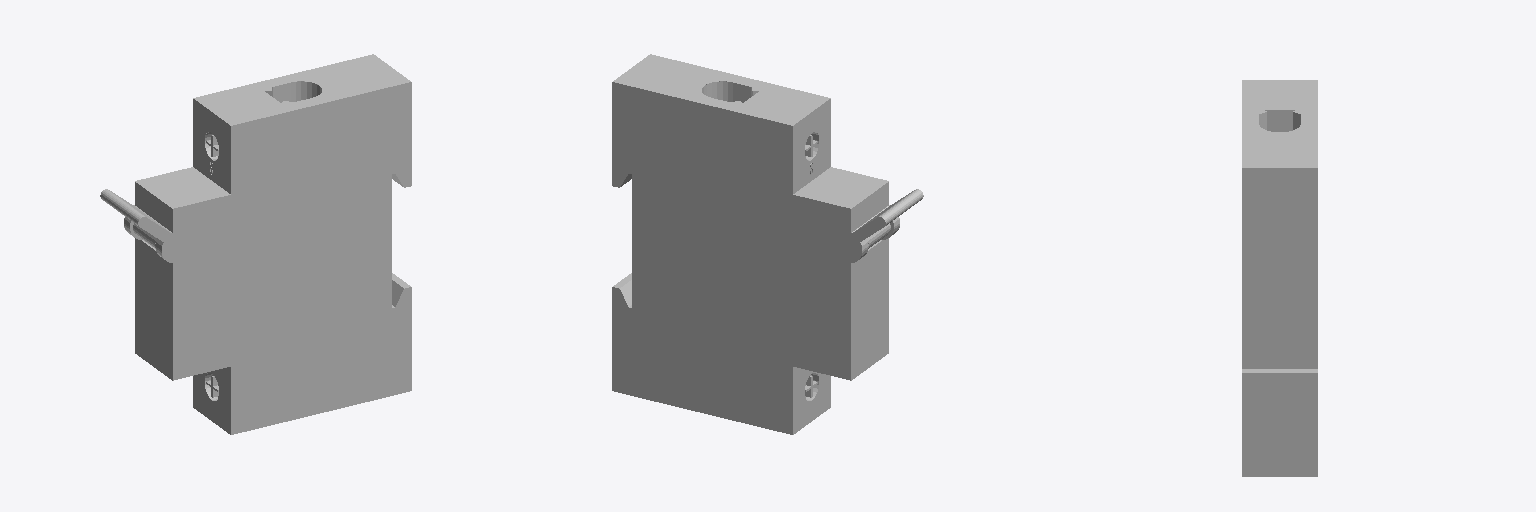
3 renders of one model, left to right at view 1: azimuth 30°, elevation 25°; view 2: azimuth 150°, elevation 25°; view 3: azimuth 270°, elevation 25°, orthographic.
Visible parts, largest first — view 1: C65N_1P0_displacement2_Untitled; view 2: C65N_1P0_displacement2_Untitled; view 3: C65N_1P0_displacement2_Untitled.
Part boxes in pixels (x1,y1,x2,y2): C65N_1P0_displacement2_Untitled: (100, 54, 411, 434); C65N_1P0_displacement2_Untitled: (612, 54, 923, 434); C65N_1P0_displacement2_Untitled: (1242, 80, 1317, 476).
Bounding box in the file's own units: 6.68 × 7.23 × 1.61.